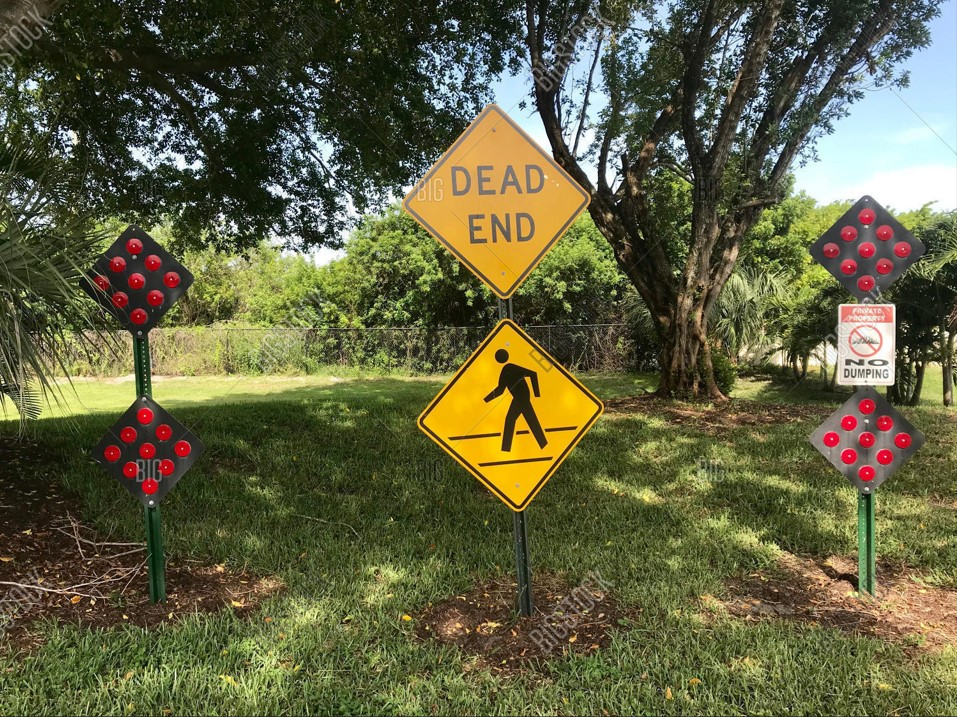Deadend: (403, 104, 593, 304)
